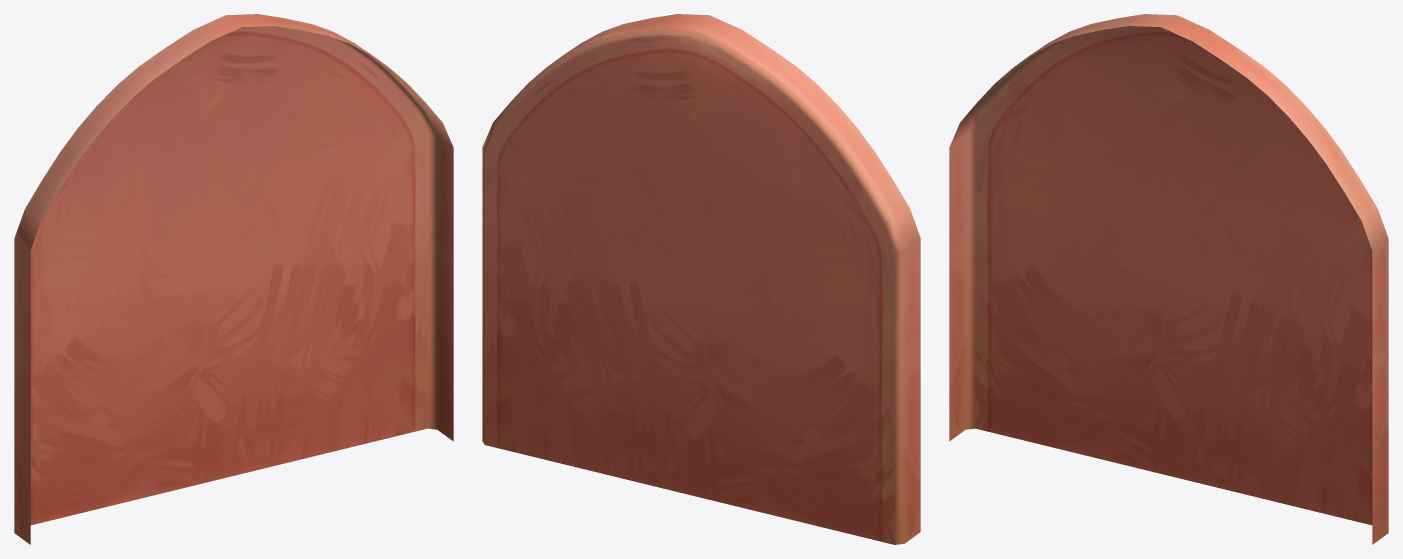
Rendered from ExitDoor.fbx.
3 renders of one model, left to right at view 1: azimuth 30°, elevation 25°; view 2: azimuth 150°, elevation 25°; view 3: azimuth 330°, elevation 25°, orthographic.
Parts seen in each view (by area): view 1: ExitDoor; view 2: ExitDoor; view 3: ExitDoor.
Part boxes in pixels (<box>): ExitDoor: <box>14,14,453,544</box>; ExitDoor: <box>482,14,920,544</box>; ExitDoor: <box>949,14,1388,544</box>.
Size of the model in its own units: 85.79 by 90.31 by 7.01.
